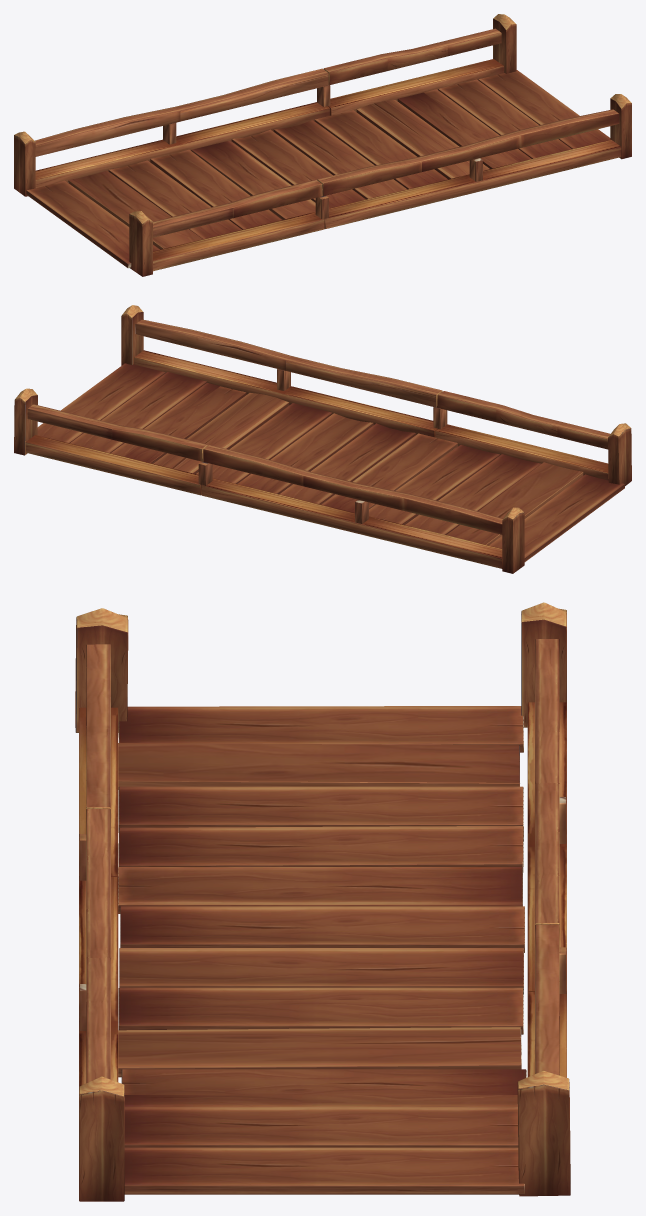
Rendered from bridge-wood-2.fbx.
The picture shows the model from 3 angles, top to bottom: view 1: azimuth 30°, elevation 25°; view 2: azimuth 150°, elevation 25°; view 3: azimuth 270°, elevation 25°; orthographic projection. The views are drawn at different scales.
Parts seen in each view (by area): view 1: Box026; view 2: Box026; view 3: Box026.
Boxes of the visible parts, bbox=[...] form: Box026: bbox=[14, 14, 631, 276]; Box026: bbox=[14, 305, 631, 573]; Box026: bbox=[75, 602, 570, 1201].
Size of the model in its own units: 417 by 48.27 by 180.
1 material, 1 textured.
